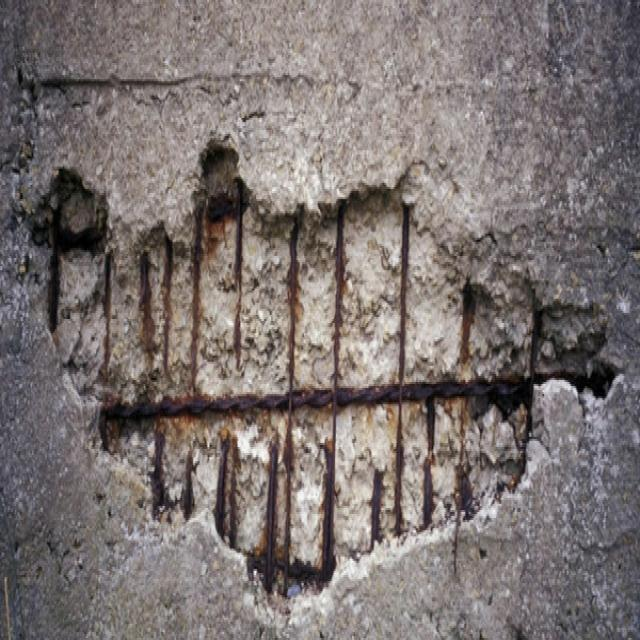Spalling: (9, 120, 629, 606)
